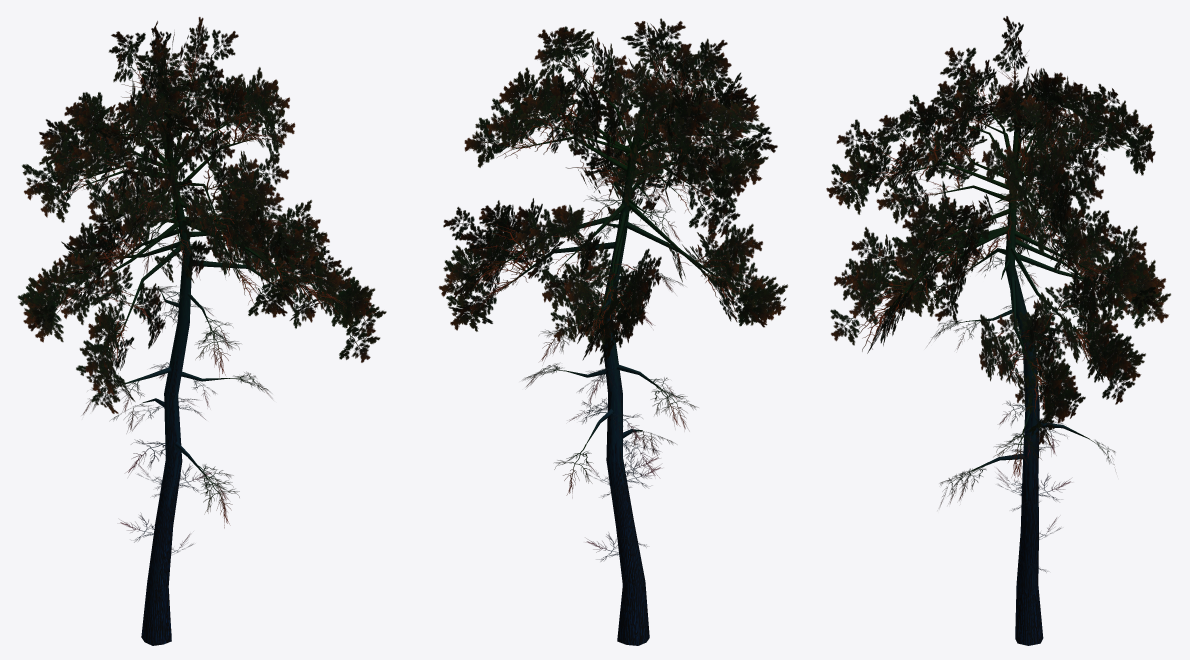
The model's file is Scoth_Pine_B.glb.
The picture shows the model from 3 angles, left to right: view 1: azimuth 30°, elevation 25°; view 2: azimuth 150°, elevation 25°; view 3: azimuth 270°, elevation 25°; orthographic projection. The views are drawn at different scales.
Parts seen in each view (by area): view 1: B_LOD0; view 2: B_LOD0; view 3: B_LOD0.
Boxes of the visible parts, left/top/right/bottom form: B_LOD0: left=17, top=17, right=386, bottom=645; B_LOD0: left=438, top=18, right=787, bottom=645; B_LOD0: left=826, top=16, right=1170, bottom=645.
Size of what is drawn, in the model's own units: 17.48 by 32.21 by 16.9.
3 materials, 3 textured.
